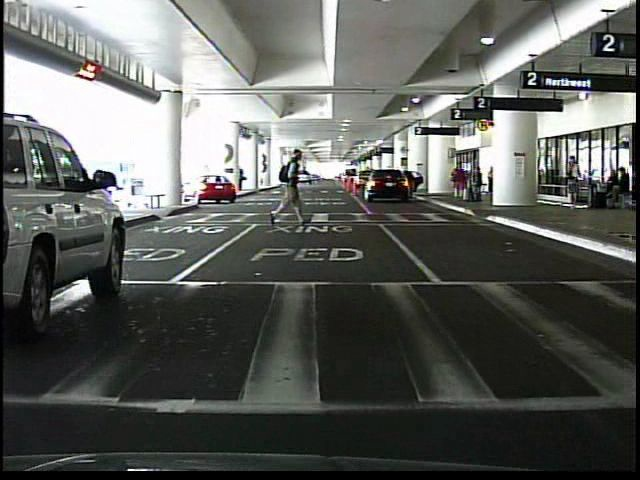person: (266, 146, 307, 225), (449, 160, 469, 200), (567, 159, 582, 207), (471, 166, 484, 201)
